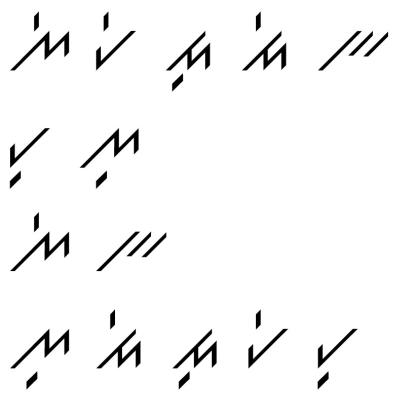de: (240, 12, 296, 77), (95, 309, 144, 377)
du: (168, 322, 222, 391), (162, 28, 215, 93)
ne: (6, 9, 75, 76), (8, 209, 74, 275)
nu: (78, 122, 144, 192), (9, 326, 76, 390)
pe: (244, 305, 290, 377), (91, 10, 136, 74)
pu: (306, 319, 361, 393), (7, 116, 55, 192)
